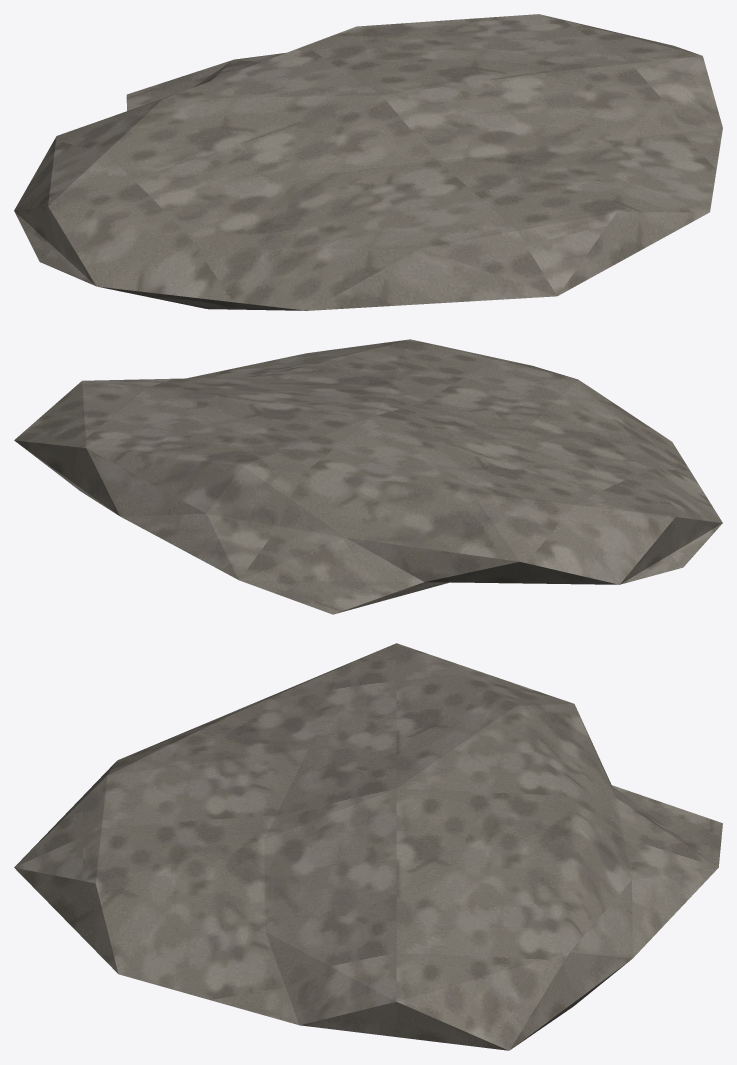
The model's file is rock_flat.glb.
The picture shows the model from 3 angles, top to bottom: view 1: azimuth 30°, elevation 25°; view 2: azimuth 150°, elevation 25°; view 3: azimuth 270°, elevation 25°; orthographic projection. The views are drawn at different scales.
Parts seen in each view (by area): view 1: Rock_Flat; view 2: Rock_Flat; view 3: Rock_Flat.
Part boxes in pixels (left/top/right/bottom): Rock_Flat: left=14, top=14, right=722, bottom=310; Rock_Flat: left=14, top=339, right=722, bottom=614; Rock_Flat: left=14, top=643, right=722, bottom=1050.
Bounding box in the file's own units: 4.13 × 0.5472 × 3.39.
1 material, 1 textured.
